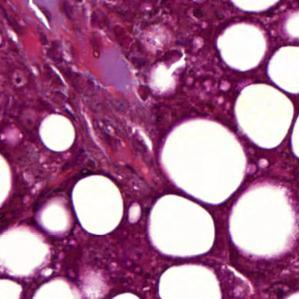steatosis: (234, 76, 298, 148), (150, 194, 214, 255), (71, 174, 121, 242)
